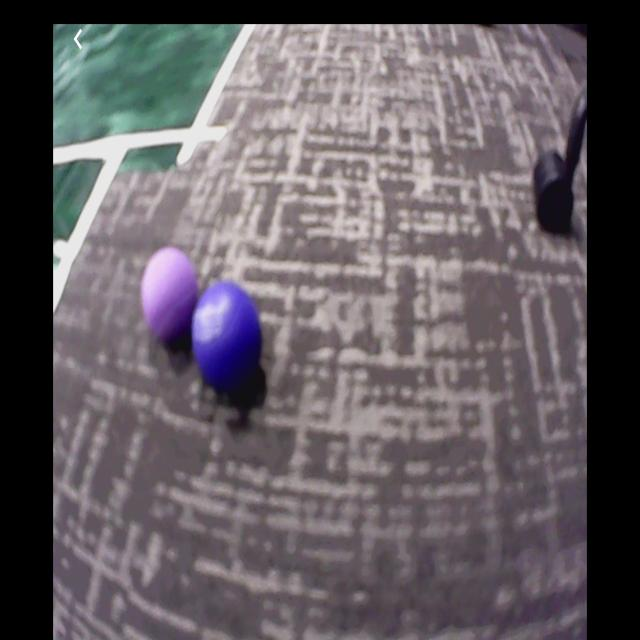ball: (192, 281, 264, 392), (140, 249, 197, 351)
